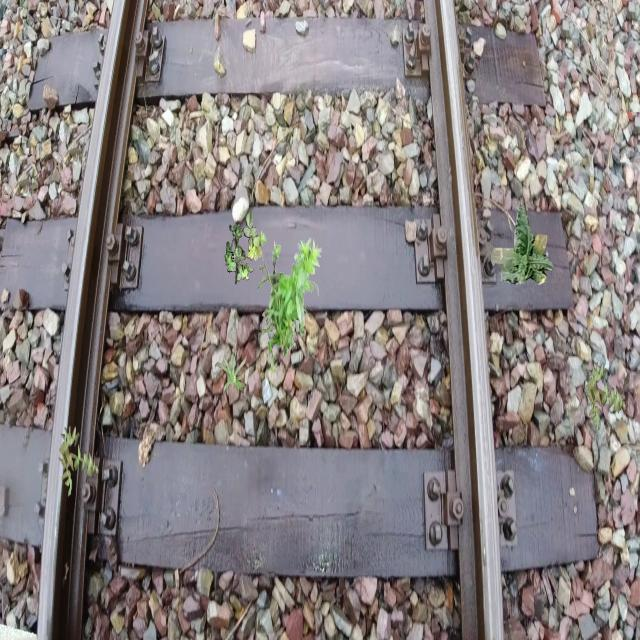Plant: (257, 230, 322, 374), (490, 202, 554, 285), (58, 426, 100, 498), (585, 362, 626, 434), (225, 211, 262, 284), (215, 349, 248, 395)
